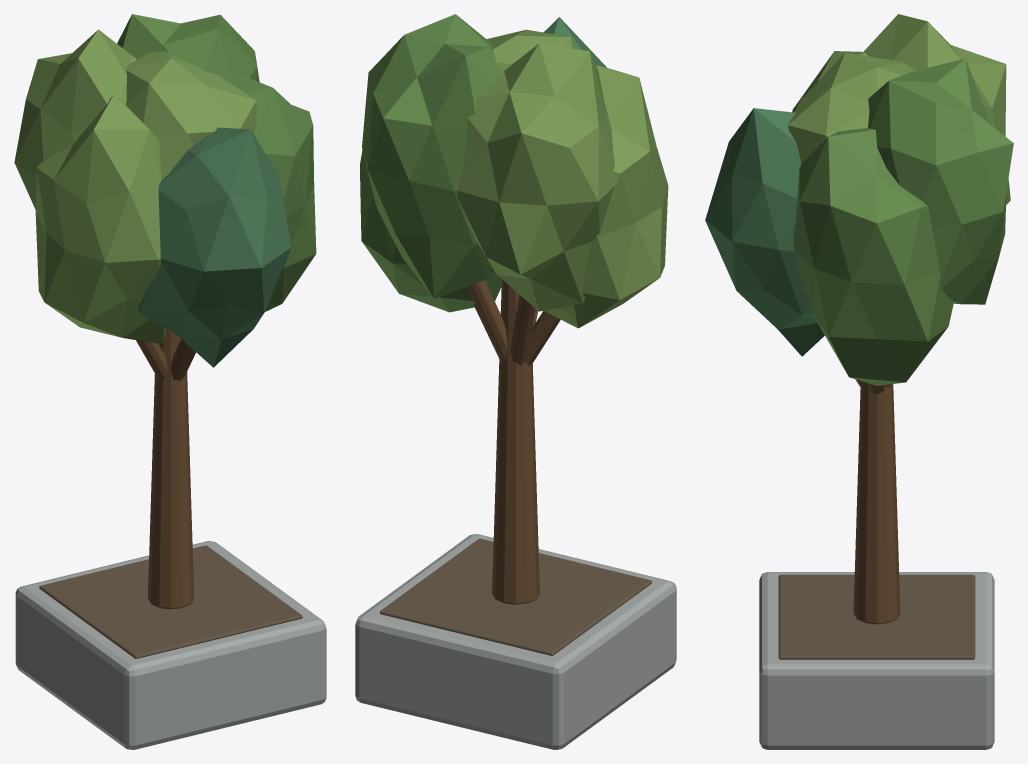
File: PLANTER.fbx
The picture shows the model from 3 angles, left to right: view 1: azimuth 30°, elevation 25°; view 2: azimuth 150°, elevation 25°; view 3: azimuth 270°, elevation 25°; orthographic projection. The views are drawn at different scales.
Visible parts, largest first — view 1: UNITY_ASSET_PLANTER; view 2: UNITY_ASSET_PLANTER; view 3: UNITY_ASSET_PLANTER.
Part boxes in pixels (x1=…): UNITY_ASSET_PLANTER: x1=14, y1=14, x2=326, y2=749; UNITY_ASSET_PLANTER: x1=355, y1=14, x2=676, y2=749; UNITY_ASSET_PLANTER: x1=705, y1=14, x2=1013, y2=749.
Size of the model in its own units: 1.89 by 4.33 by 1.84.
